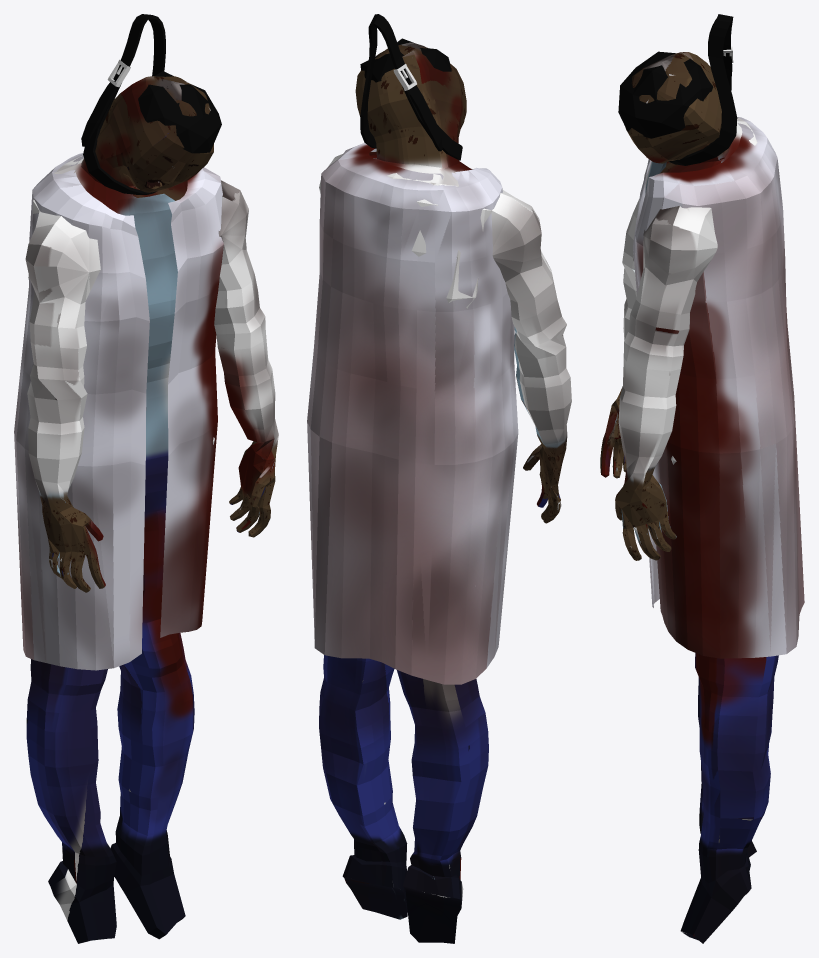
The model's file is hangedMan.fbx.
The picture shows the model from 3 angles, left to right: view 1: azimuth 30°, elevation 25°; view 2: azimuth 150°, elevation 25°; view 3: azimuth 270°, elevation 25°; orthographic projection.
Visible parts, largest first — view 1: Cube, Cylinder, Icosphere, Circle; view 2: Cylinder, Cube, Circle, Icosphere; view 3: Cylinder, Cube, Icosphere, Circle.
Part boxes in pixels (x1,y1,x2,y2): Cube: (25,76,278,943); Cylinder: (14,153,223,670); Icosphere: (138,71,221,153); Circle: (81,14,165,194); Cylinder: (307,143,518,684); Cube: (319,42,571,943); Circle: (360,14,462,160); Icosphere: (360,38,451,82); Cylinder: (633,117,804,658); Cube: (600,52,778,943); Icosphere: (618,51,713,138); Circle: (668,14,737,165).
Size of the model in its own units: 271 by 991 by 198.
